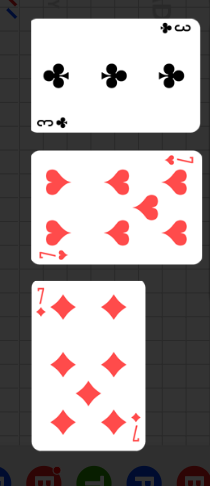3C: (157, 22, 192, 36)
7D: (34, 286, 47, 318), (130, 411, 142, 443)
